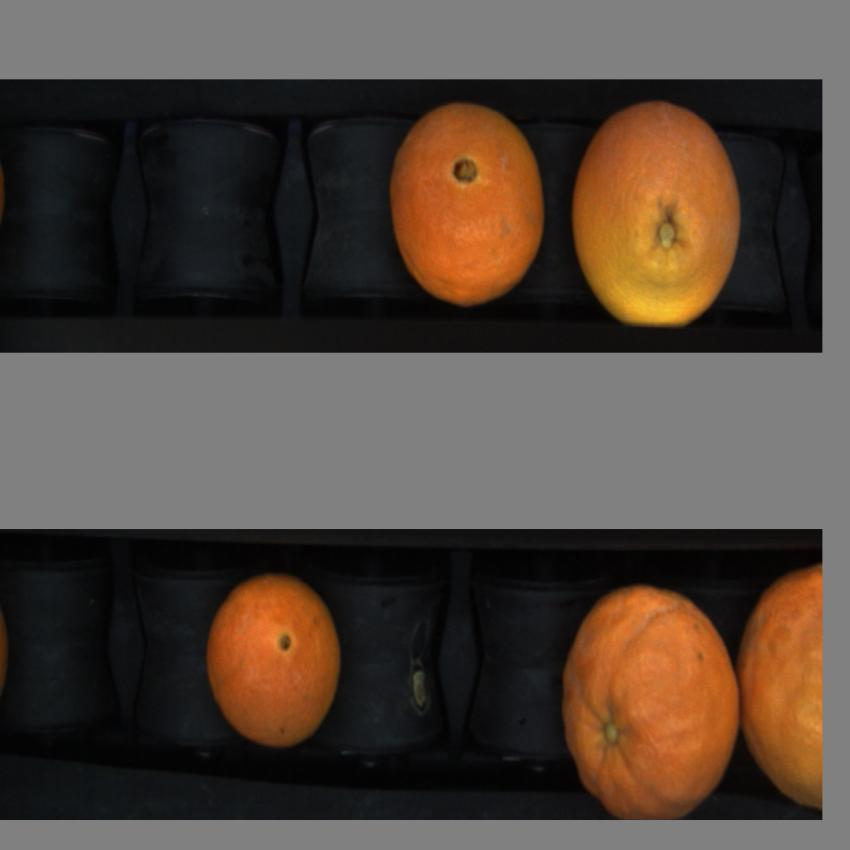Buen estado: (574, 90, 746, 327), (388, 103, 553, 314), (198, 567, 350, 759)
Mal estado: (559, 580, 740, 812), (734, 544, 822, 814)
